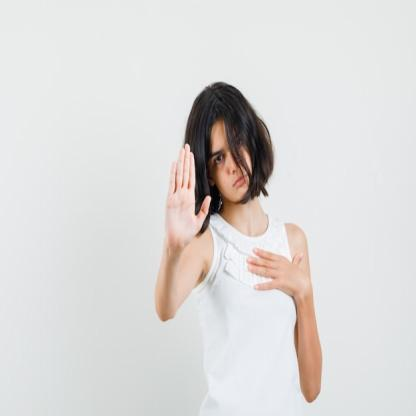stop: (163, 138, 212, 253)
